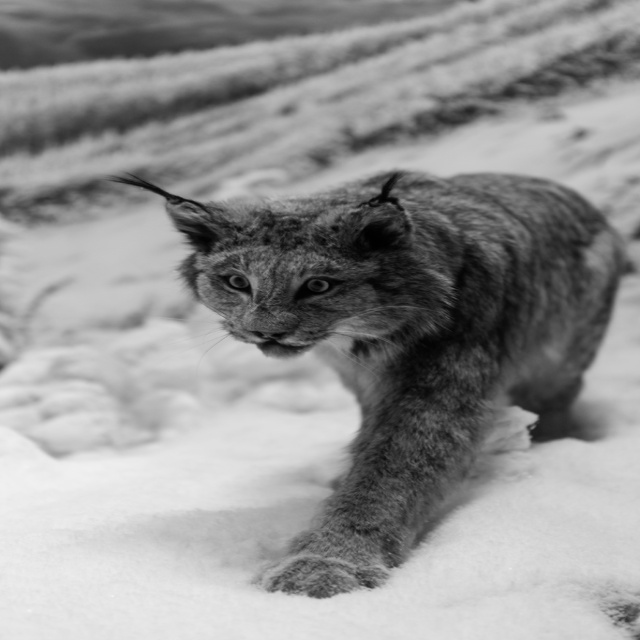Lynx: (104, 171, 630, 600)
